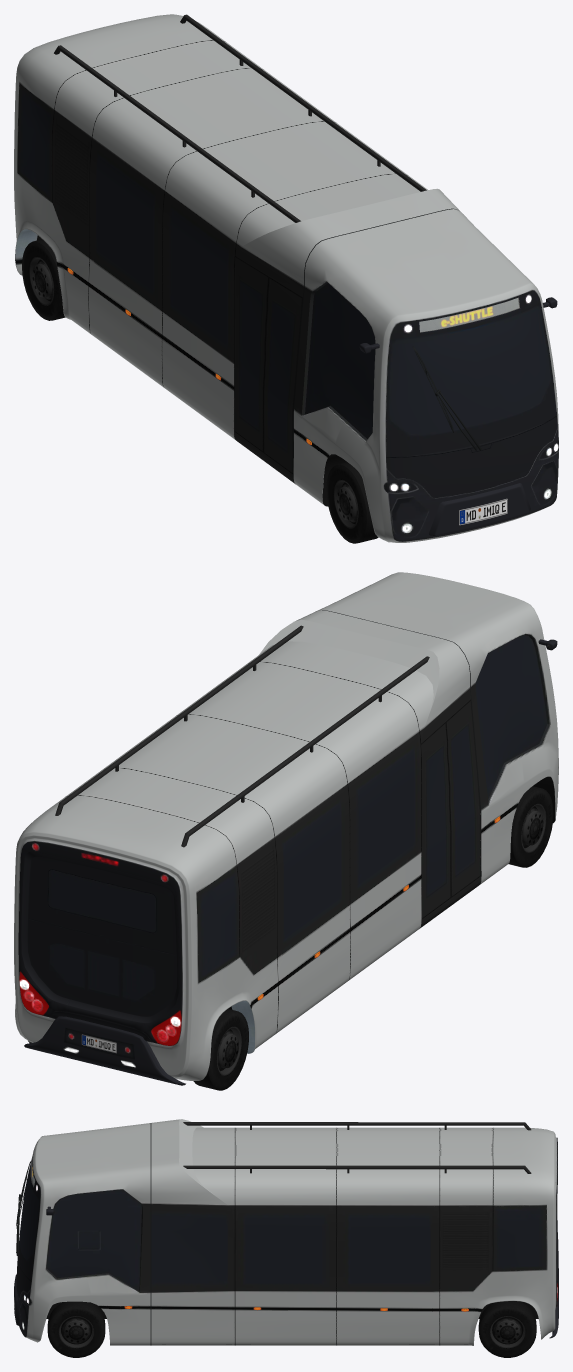
File: Eversum_ShuttleBus_ImiqPlating_3DModel_GLB(1)-compressed.glb
3 renders of one model, top to bottom at view 1: azimuth 30°, elevation 25°; view 2: azimuth 150°, elevation 25°; view 3: azimuth 270°, elevation 25°, orthographic. The views are drawn at different scales.
Parts seen in each view (by area): view 1: Electric_Bus_lowpoly_9_Wheel_FL004; view 2: Electric_Bus_lowpoly_9_Wheel_FL004; view 3: Electric_Bus_lowpoly_9_Wheel_FL004.
Part boxes in pixels (x1=…): Electric_Bus_lowpoly_9_Wheel_FL004: x1=14, y1=14, x2=558, y2=543; Electric_Bus_lowpoly_9_Wheel_FL004: x1=14, y1=572, x2=558, y2=1090; Electric_Bus_lowpoly_9_Wheel_FL004: x1=14, y1=1119, x2=558, y2=1357.
Size of the model in its own units: 2.46 by 3.13 by 8.39.
5 materials, 5 textured.
